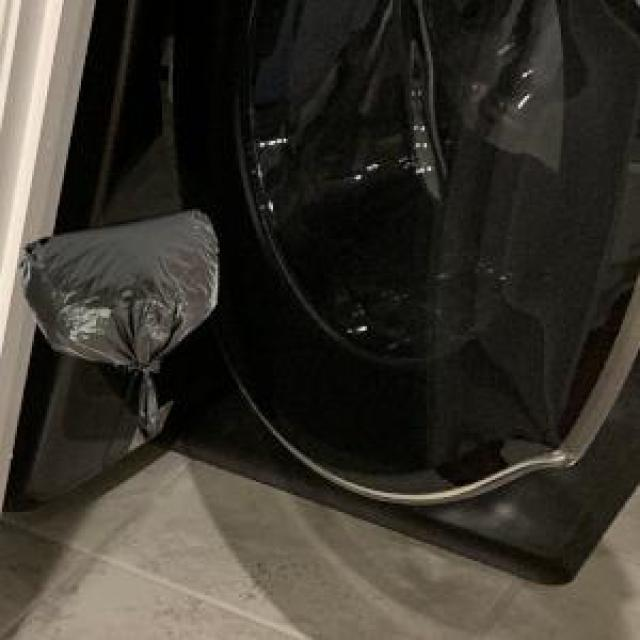Trashbag: (15, 203, 230, 459)
